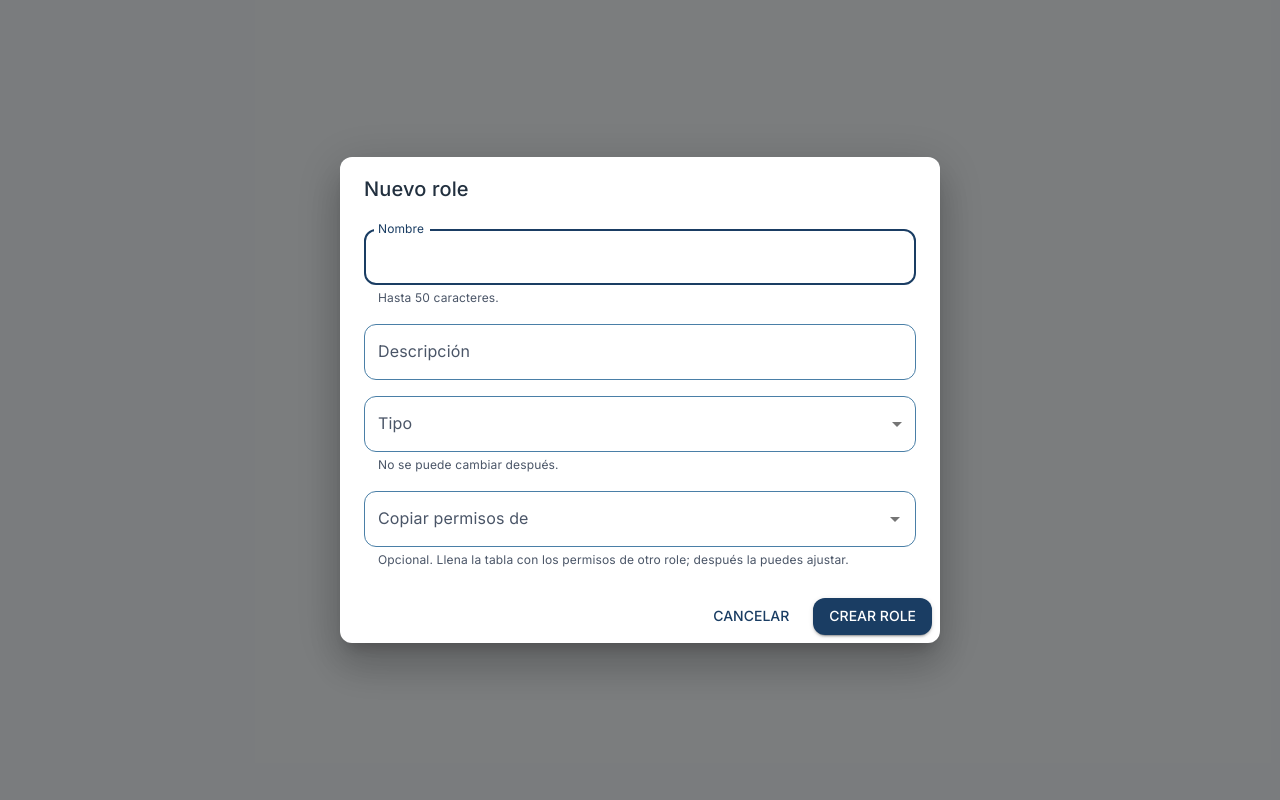
Test: RoleFormDialog › disables "Crear role" while the creation is pending
This screenshot has width=1280, height=800.
Type "Auditor" into the field labelled "Nombre" at (640, 257), box [364, 229, 916, 285]
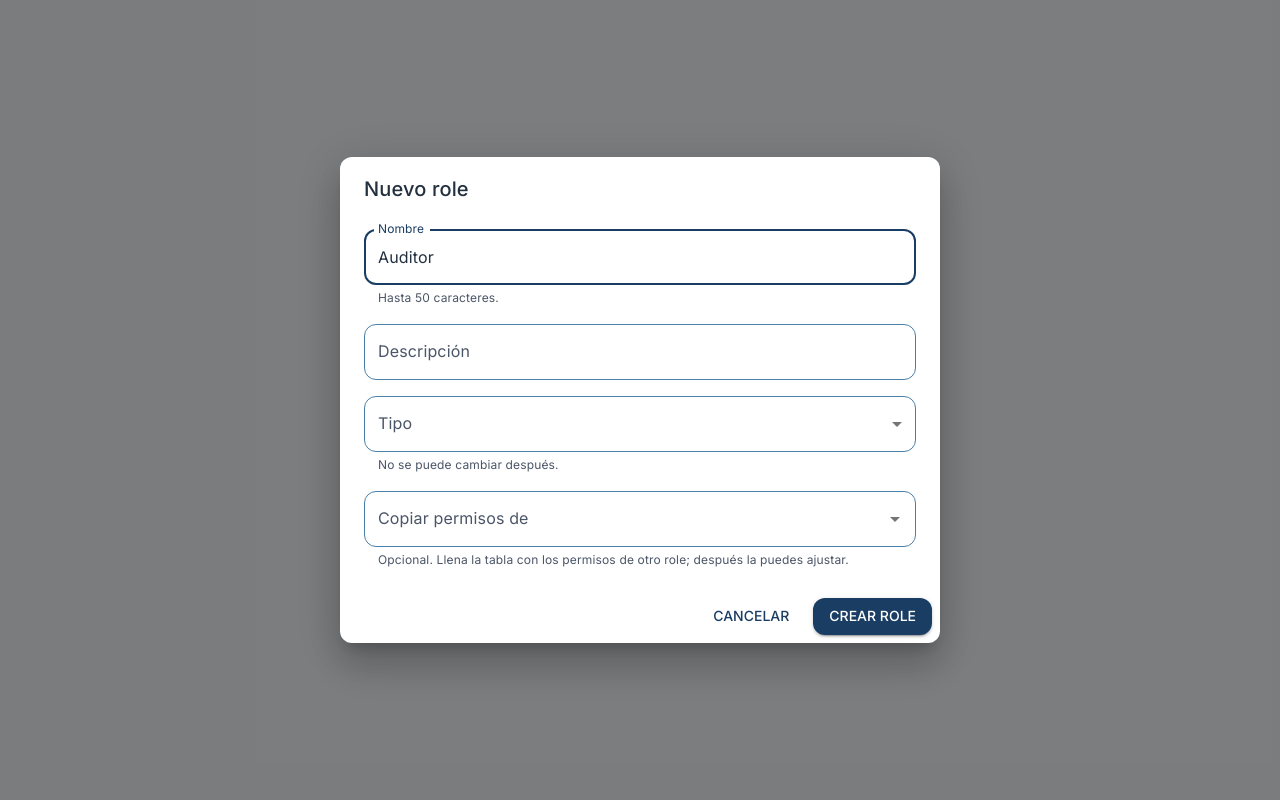
Click the dropdown named "Tipo" at (640, 424), box [364, 396, 916, 452]
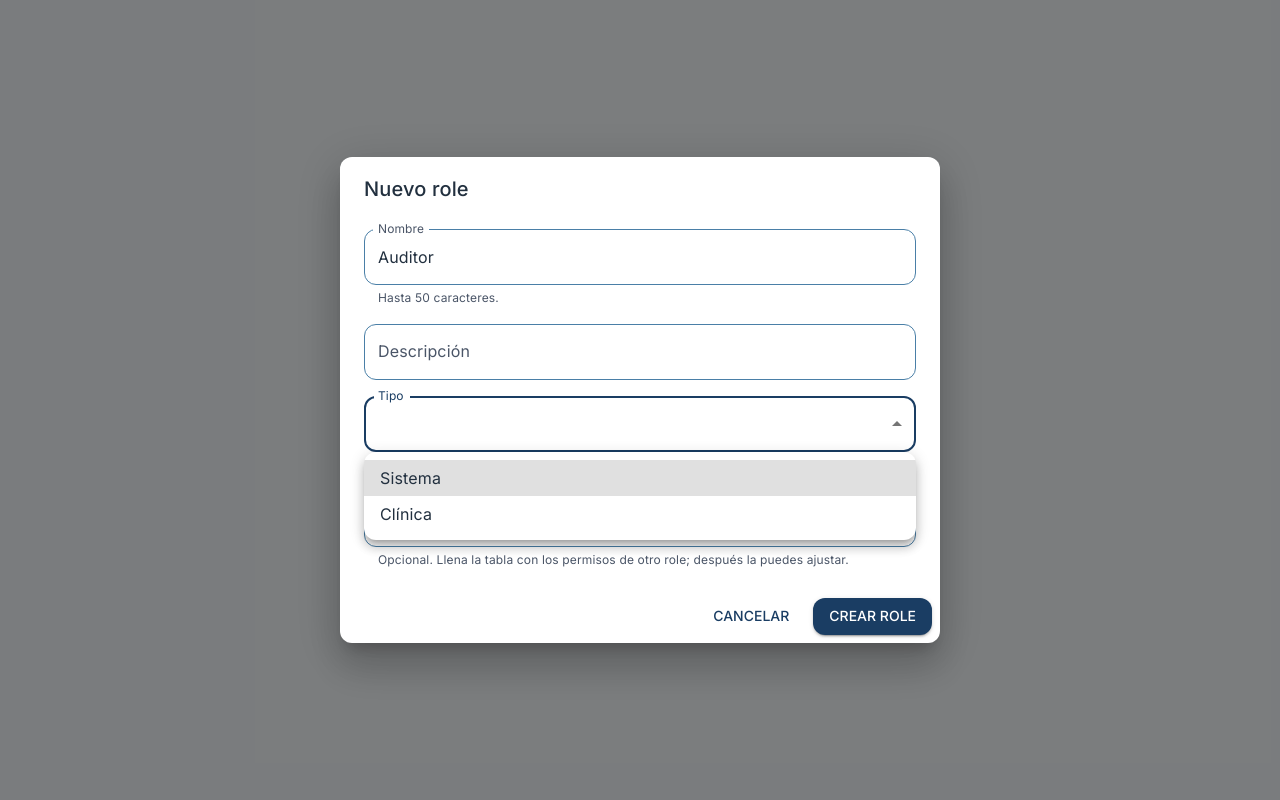
Click the option "Sistema" at (411, 478), box [364, 460, 916, 496]
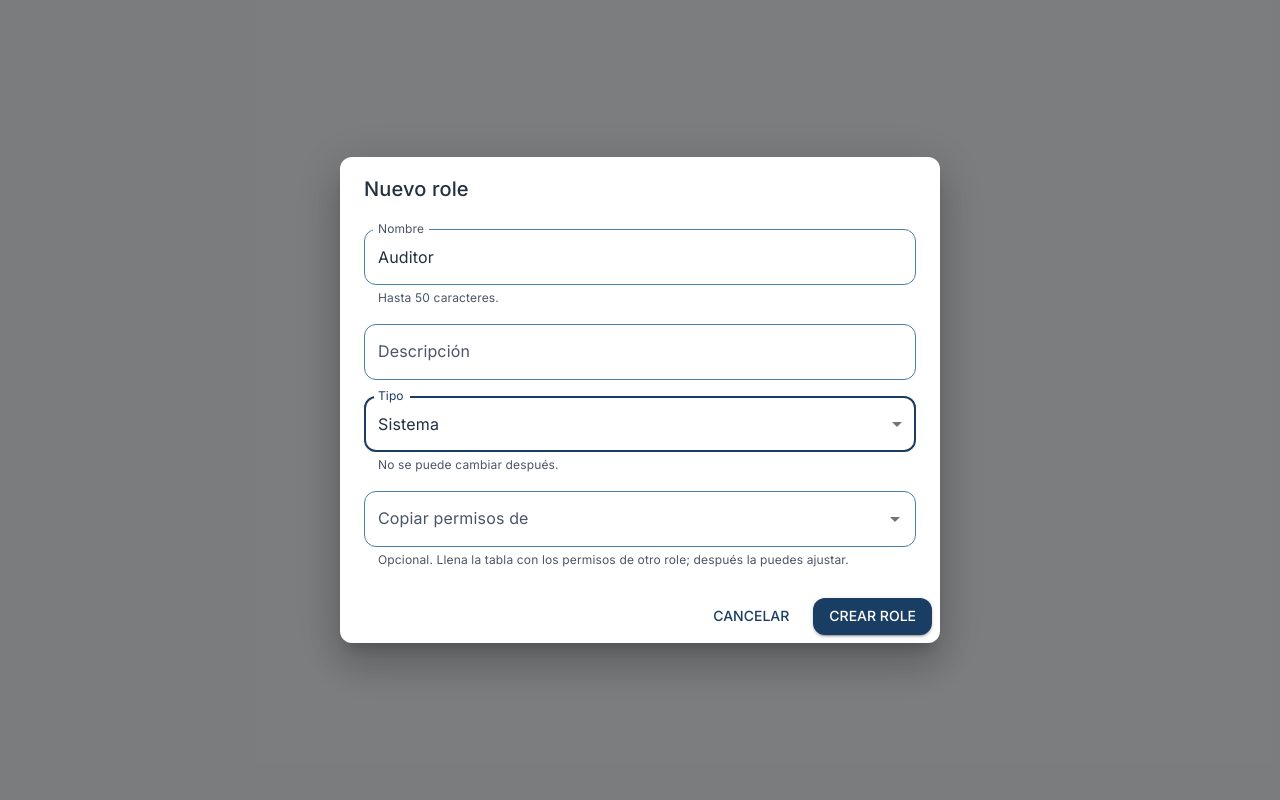
Click the button "Crear role" at (873, 616), box [813, 598, 932, 635]
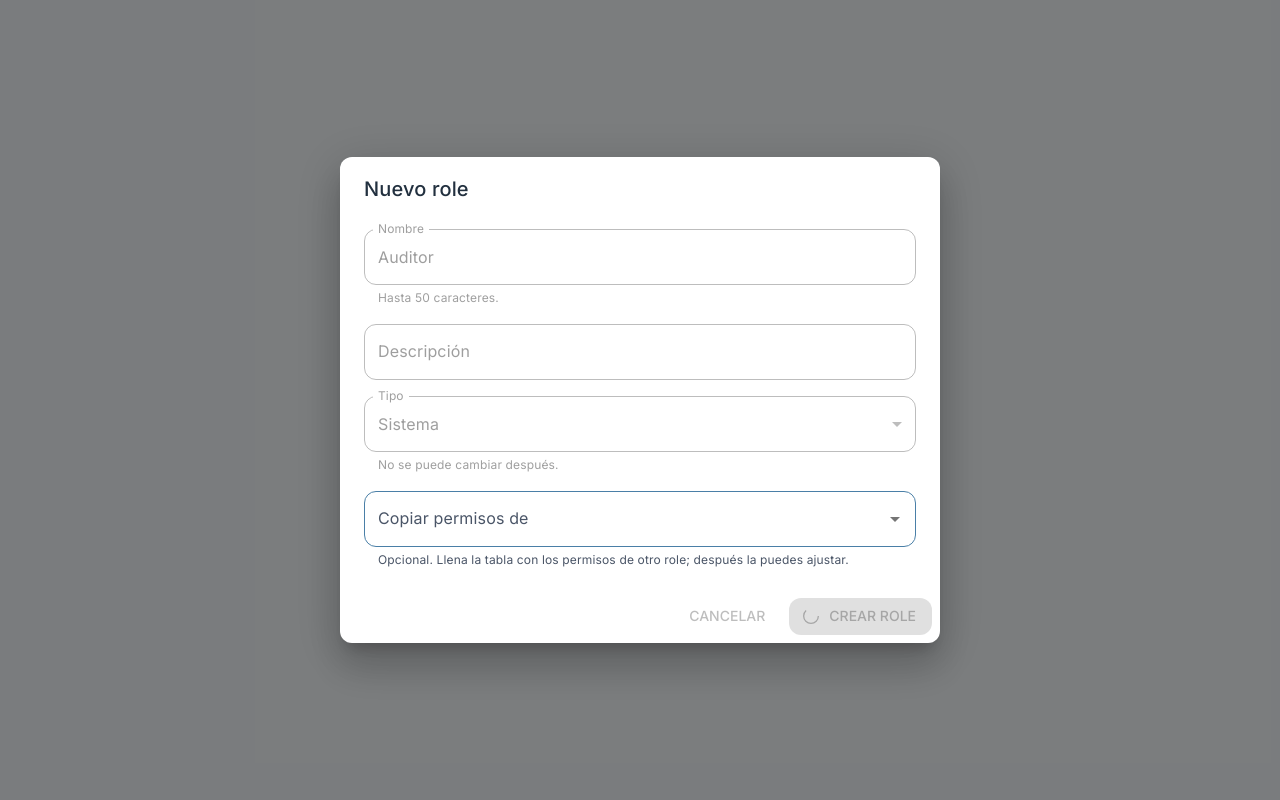
Check: the button "Crear role" is disabled, box [789, 598, 932, 635]
